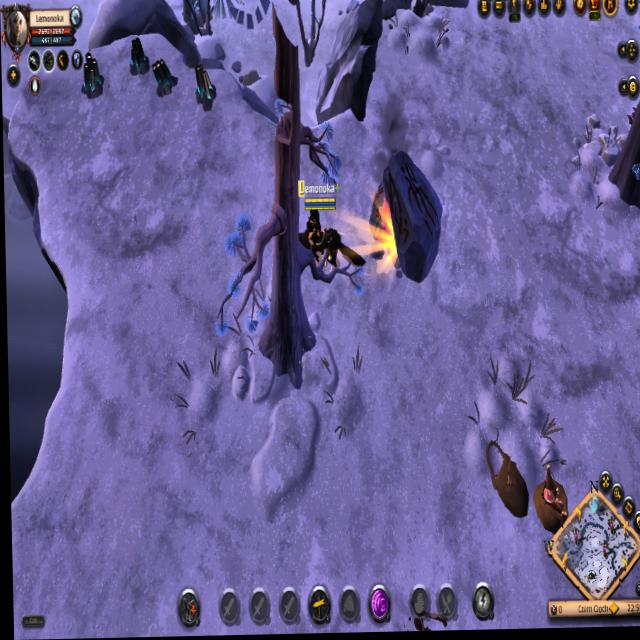ore tier 4: (189, 65, 217, 112), (151, 57, 178, 103), (81, 51, 106, 100), (127, 33, 150, 85)
